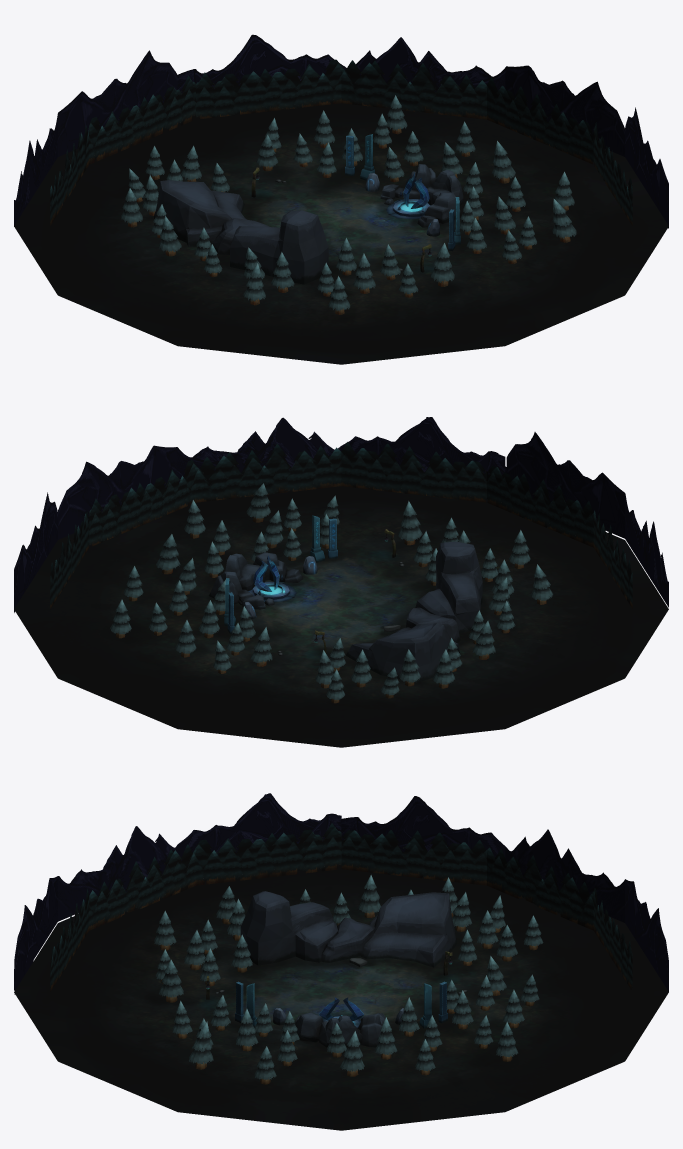
Rendered from B2 - Environment.fbx.
The picture shows the model from 3 angles, top to bottom: view 1: azimuth 30°, elevation 25°; view 2: azimuth 150°, elevation 25°; view 3: azimuth 270°, elevation 25°; orthographic projection.
Visible parts, largest first — view 1: Ground1, Inner, Outer, asset_mid, leaves_bottom, leaves_mid, Tree_top, trunk; view 2: Ground1, Inner, Outer, asset_mid, leaves_bottom, leaves_mid, Tree_top, trunk; view 3: Ground1, Inner, Outer, asset_mid, leaves_bottom, leaves_mid, Tree_top, trunk.
Boxes of the visible parts, box(x1,y1,x2,y2) form: Ground1: box(14, 102, 668, 364); Inner: box(50, 59, 632, 225); Outer: box(14, 34, 668, 228); asset_mid: box(154, 134, 463, 284); leaves_bottom: box(120, 116, 576, 311); leaves_mid: box(122, 108, 572, 300); Tree_top: box(125, 95, 569, 289); trunk: box(128, 127, 570, 314); Ground1: box(14, 486, 668, 747); Inner: box(50, 442, 632, 608); Outer: box(14, 417, 668, 612); asset_mid: box(209, 515, 482, 682); leaves_bottom: box(110, 504, 553, 699); leaves_mid: box(113, 494, 550, 690); Tree_top: box(115, 483, 546, 681); trunk: box(115, 516, 546, 703); Ground1: box(14, 865, 668, 1130); Inner: box(50, 823, 632, 991); Outer: box(14, 793, 668, 994); asset_mid: box(206, 891, 467, 1047); leaves_bottom: box(154, 898, 543, 1079); leaves_mid: box(156, 888, 541, 1069); Tree_top: box(159, 875, 538, 1059); trunk: box(160, 911, 537, 1084).
Size of the model in its own units: 556 by 86.05 by 556.
13 materials, 13 textured.
